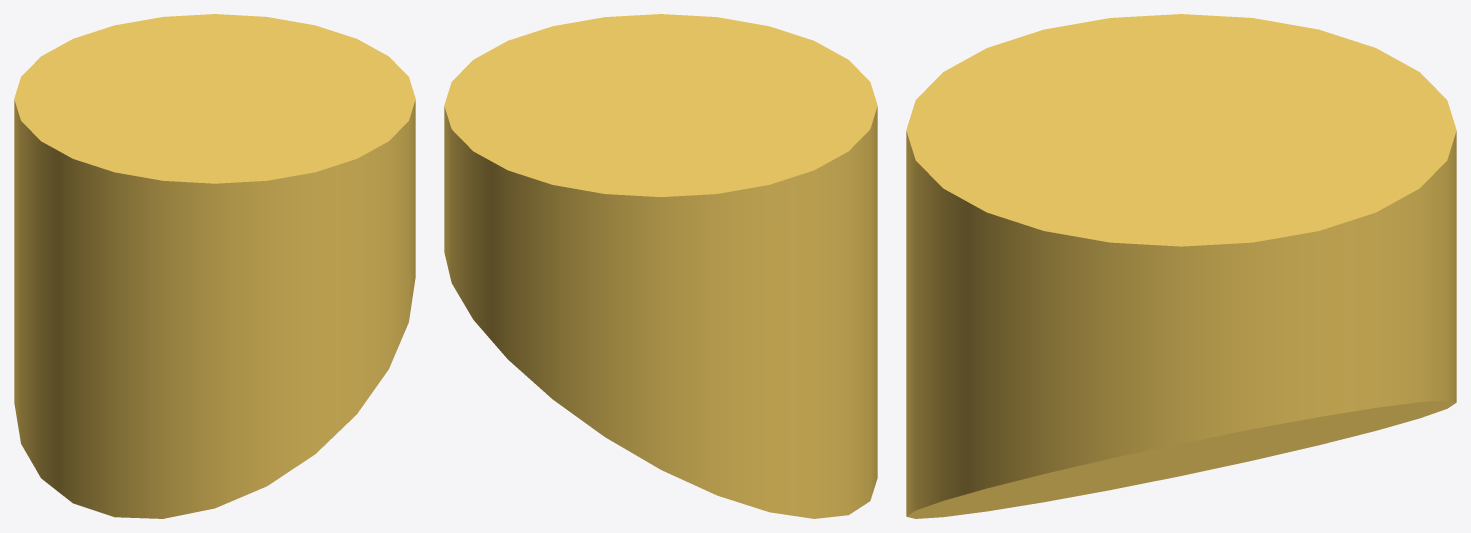
The model's file is Cilindro_OblicuoB.fbx.
3 renders of one model, left to right at view 1: azimuth 30°, elevation 25°; view 2: azimuth 150°, elevation 25°; view 3: azimuth 270°, elevation 25°, orthographic. The views are drawn at different scales.
Parts seen in each view (by area): view 1: Difference2; view 2: Difference2; view 3: Difference2.
Boxes of the visible parts, x1,y1,x2,y2 form: Difference2: (14,14,415,518); Difference2: (444,14,877,518); Difference2: (906,14,1456,518).
Bounding box in the file's own units: 100 × 94.77 × 100.
